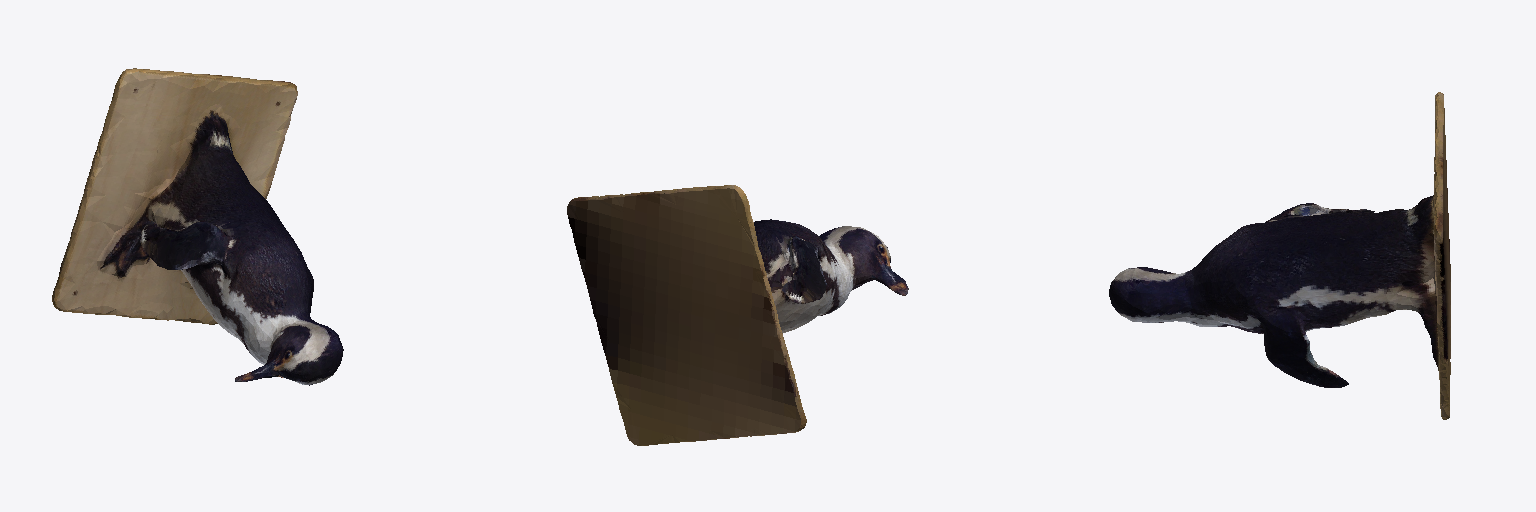
3 views of the same model, side by side, from view 1: azimuth 30°, elevation 25°; view 2: azimuth 150°, elevation 25°; view 3: azimuth 270°, elevation 25° (orthographic).
Bounding box in the file's own units: 0.3437 × 0.3806 × 0.4222.
1 materials, 1 textured.